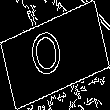O_S: (35, 24, 75, 86)
